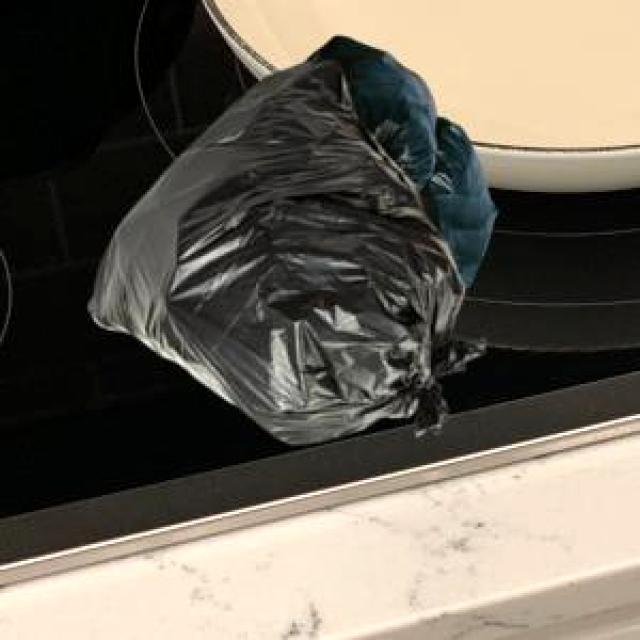Garbage_Bag: (86, 50, 481, 441), (306, 33, 494, 287)
